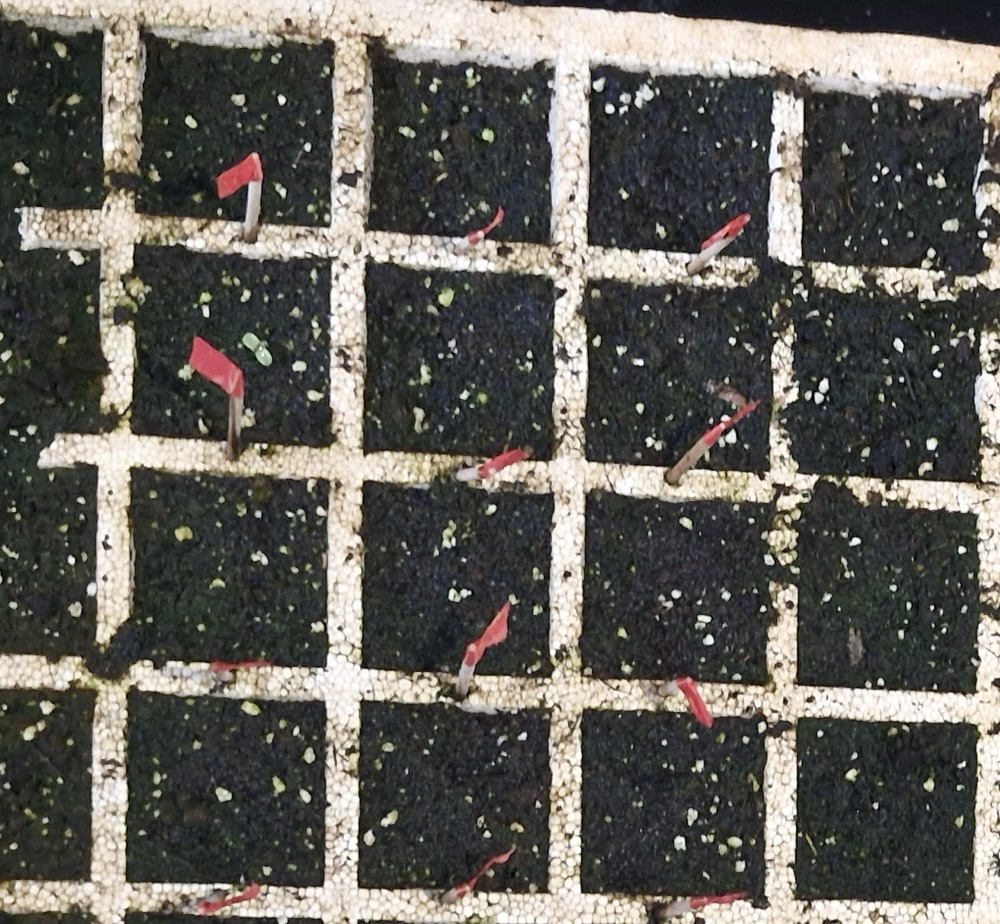Folha: (242, 333, 261, 351), (255, 345, 272, 365)
Germinacao: (242, 332, 273, 367)
